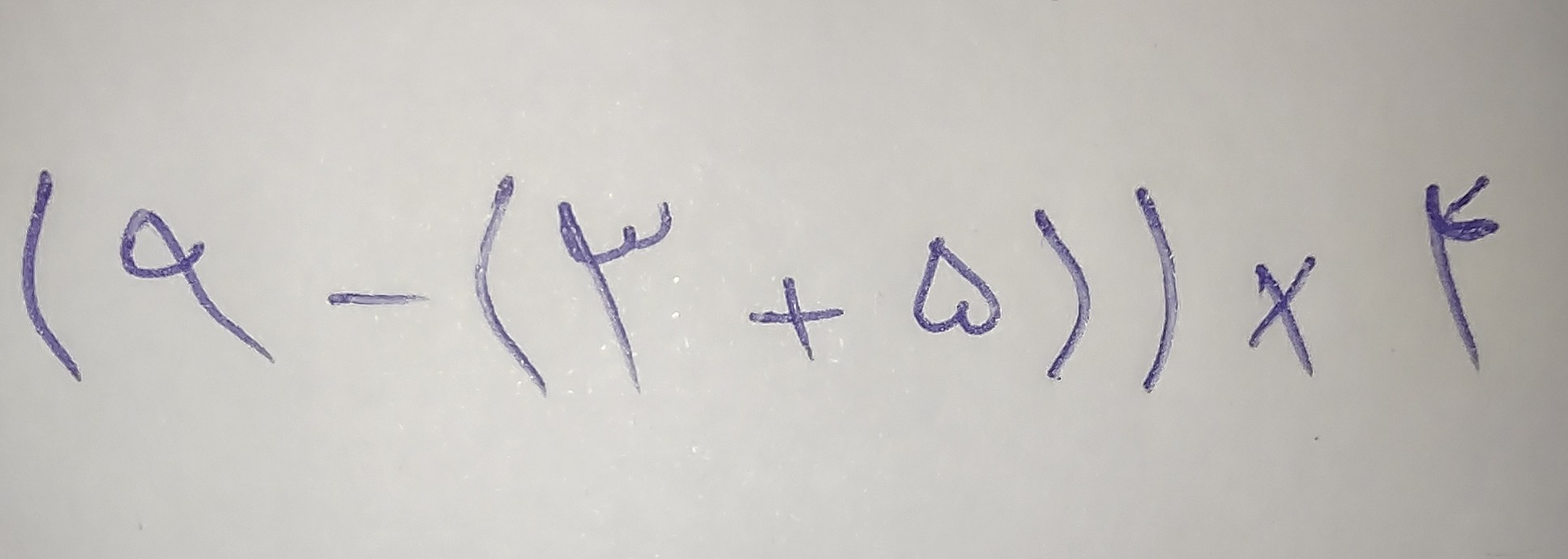character: (120, 209, 277, 370), (558, 199, 672, 393), (473, 173, 548, 398), (1424, 176, 1501, 374), (21, 170, 83, 383), (1033, 208, 1096, 385), (1136, 187, 1184, 395), (913, 236, 1003, 334), (748, 276, 846, 365), (1250, 256, 1316, 377), (328, 288, 429, 313)
